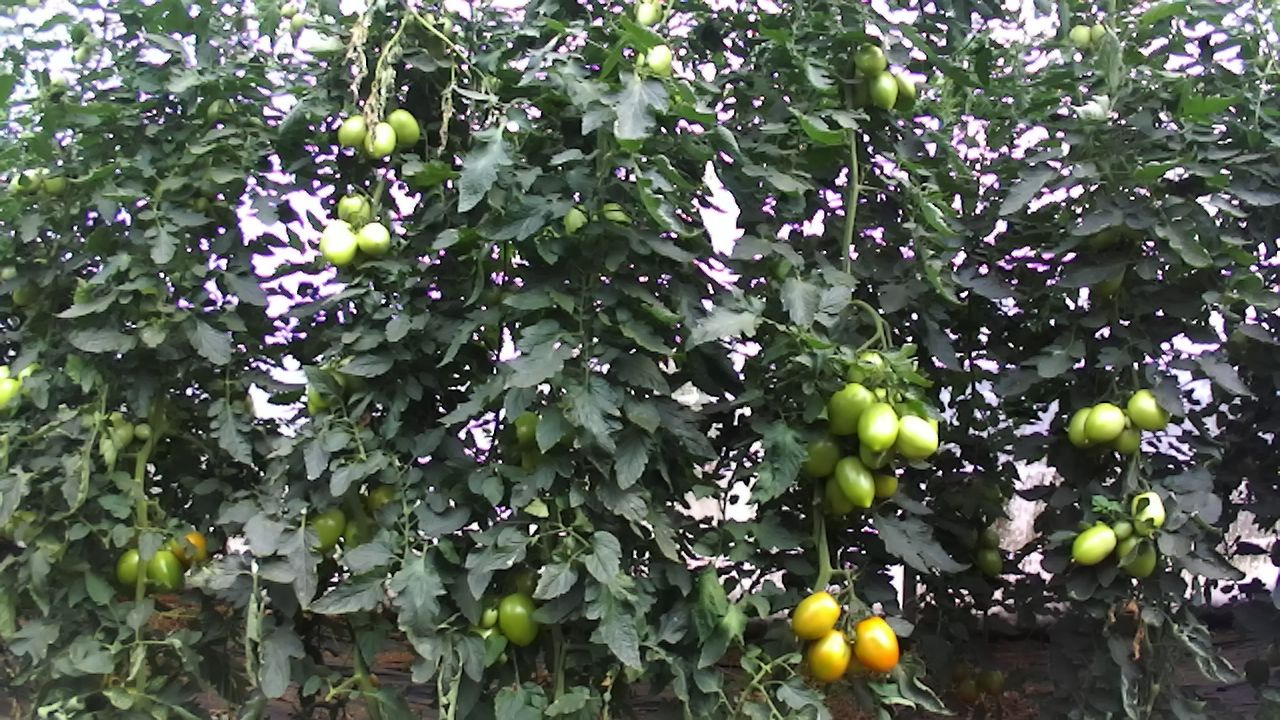tomato: (848, 613, 902, 675), (823, 380, 880, 438), (832, 451, 878, 513), (805, 626, 854, 684), (791, 588, 842, 640), (854, 399, 901, 454), (495, 593, 541, 649), (303, 502, 349, 554), (892, 412, 939, 461), (1115, 530, 1160, 581), (1126, 386, 1172, 433), (1069, 521, 1117, 566), (1127, 487, 1168, 538), (1081, 400, 1126, 445), (143, 547, 185, 595), (319, 222, 359, 268), (383, 105, 421, 149), (1064, 404, 1096, 452), (868, 68, 902, 113), (354, 219, 392, 258), (336, 188, 374, 226), (364, 118, 397, 161), (336, 113, 368, 151), (852, 41, 886, 76), (113, 545, 142, 586), (974, 545, 1005, 579), (478, 605, 498, 630), (1112, 518, 1132, 541)
